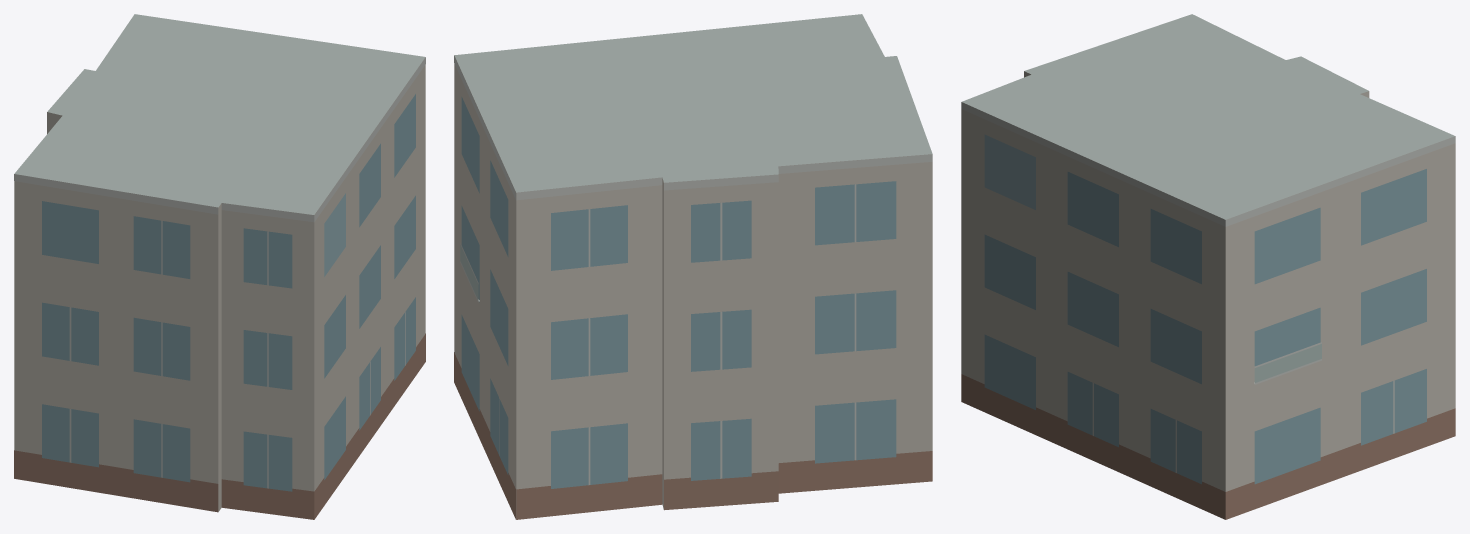
The model's file is survey-upis-32683719.glb.
3 renders of one model, left to right at view 1: azimuth 30°, elevation 25°; view 2: azimuth 150°, elevation 25°; view 3: azimuth 270°, elevation 25°, orthographic. The views are drawn at different scales.
Parts seen in each view (by area): view 1: survey-upis-32683719.tmp; view 2: survey-upis-32683719.tmp; view 3: survey-upis-32683719.tmp.
Boxes of the visible parts, x1,y1,x2,y2 form: survey-upis-32683719.tmp: (14, 14, 425, 519); survey-upis-32683719.tmp: (454, 14, 932, 519); survey-upis-32683719.tmp: (961, 14, 1455, 519).
Bounding box in the file's own units: 15.24 × 10.35 × 15.46.
